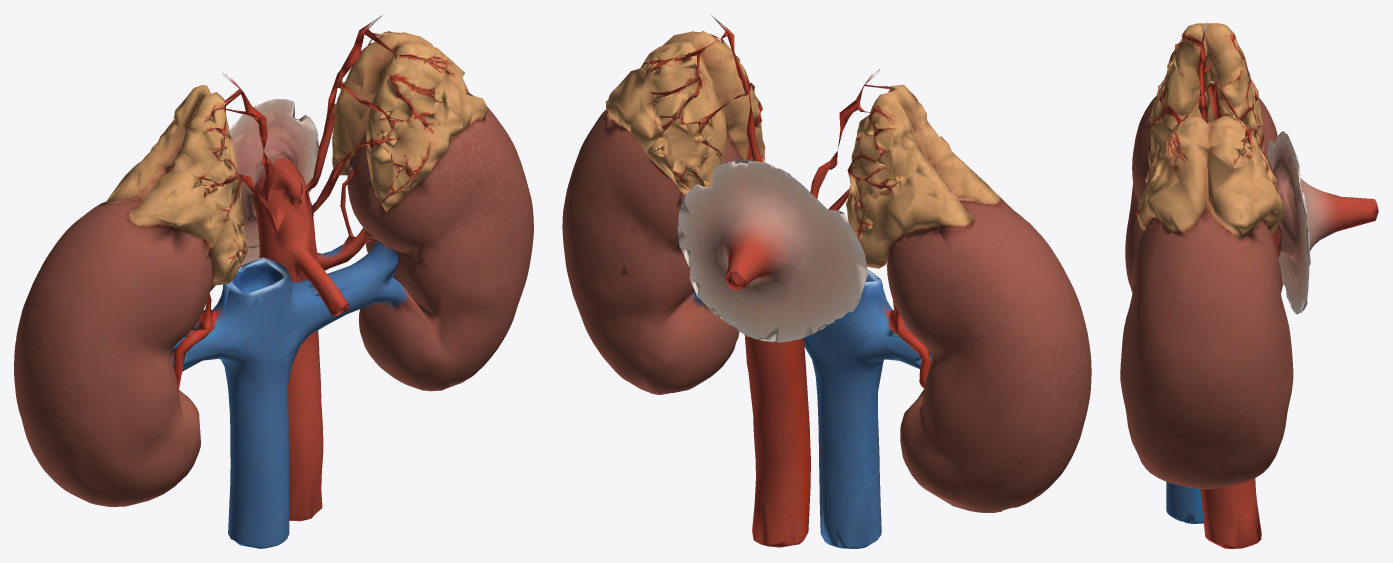
File: adrenal.glb
3 renders of one model, left to right at view 1: azimuth 30°, elevation 25°; view 2: azimuth 150°, elevation 25°; view 3: azimuth 270°, elevation 25°, orthographic. The views are drawn at different scales.
Parts seen in each view (by area): view 1: tripo_node_51568598-5593-4e2d-9e0e-c74db713137c; view 2: tripo_node_51568598-5593-4e2d-9e0e-c74db713137c; view 3: tripo_node_51568598-5593-4e2d-9e0e-c74db713137c.
Boxes of the visible parts, left/top/right/bottom form: tripo_node_51568598-5593-4e2d-9e0e-c74db713137c: left=14, top=15, right=533, bottom=548; tripo_node_51568598-5593-4e2d-9e0e-c74db713137c: left=562, top=14, right=1091, bottom=548; tripo_node_51568598-5593-4e2d-9e0e-c74db713137c: left=1120, top=18, right=1378, bottom=548.
Size of the model in its own units: 0.9806 by 0.9205 by 0.4333.
1 material, 1 textured.
